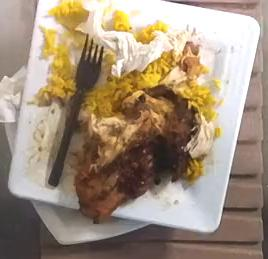chicken: (74, 40, 215, 219)
rice: (36, 1, 84, 105), (114, 52, 175, 100), (79, 76, 125, 136), (174, 80, 217, 121)
